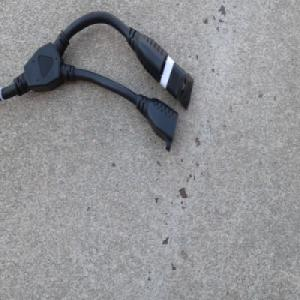Wire: (0, 9, 195, 152)
